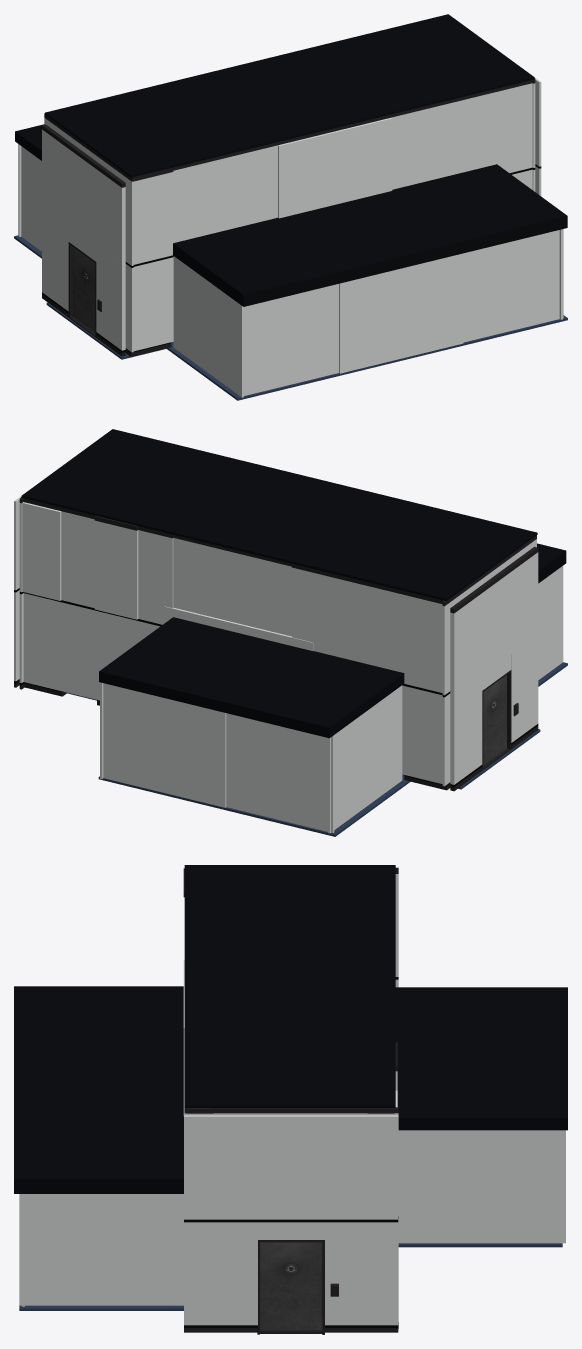
Rendered from SCP Small Room.obj.
The picture shows the model from 3 angles, top to bottom: view 1: azimuth 30°, elevation 25°; view 2: azimuth 150°, elevation 25°; view 3: azimuth 270°, elevation 25°; orthographic projection. The views are drawn at different scales.
Visible parts, largest first — view 1: Part29, Part80, Part37, Part33, Part38, Part57, Part89, Part4, Part173, Part175, Part241, Part222 (+16 smaller); view 2: Part29, Part65, Part18, Part43, Part84, Part89, Part40, Part169, Part228, Part154, Part156, Part226 (+21 smaller); view 3: Part29, Part80, Part65, Part8, Part63, Part47, Part14, Part11, Door2, Part9, Part71, Part51 (+2 smaller).
Boxes of the visible parts, <box> form: Part29: <box>45,14,534,177</box>; Part80: <box>173,164,567,306</box>; Part37: <box>347,254,459,371</box>; Part33: <box>463,229,563,342</box>; Part38: <box>244,284,338,395</box>; Part57: <box>278,117,392,218</box>; Part89: <box>42,129,125,266</box>; Part4: <box>173,256,243,397</box>; Part173: <box>133,257,172,351</box>; Part175: <box>133,172,172,264</box>; Part241: <box>205,153,245,235</box>; Part222: <box>424,100,464,181</box>; Part29: <box>21,429,537,601</box>; Part65: <box>99,617,404,738</box>; Part18: <box>103,683,221,806</box>; Part43: <box>226,713,334,832</box>; Part84: <box>173,538,291,636</box>; Part89: <box>450,552,538,697</box>; Part40: <box>328,685,402,833</box>; Part169: <box>94,520,138,619</box>; Part228: <box>22,502,61,600</box>; Part154: <box>403,686,442,783</box>; Part156: <box>403,594,442,692</box>; Part226: <box>23,593,61,690</box>; Part29: <box>184,865,395,1107</box>; Part80: <box>14,986,183,1193</box>; Part65: <box>395,987,567,1130</box>; Part8: <box>184,1115,398,1219</box>; Part63: <box>398,1130,565,1243</box>; Part47: <box>19,1194,181,1305</box>; Part14: <box>184,1222,257,1325</box>; Part11: <box>325,1222,398,1325</box>; Door2: <box>260,1242,322,1329</box>; Part9: <box>257,1222,324,1239</box>; Part71: <box>184,1107,398,1113</box>; Part51: <box>19,1305,183,1310</box>.
Bounding box in the file's own units: 43.6 × 18.43 × 40.88.
24 materials, 10 textured.
